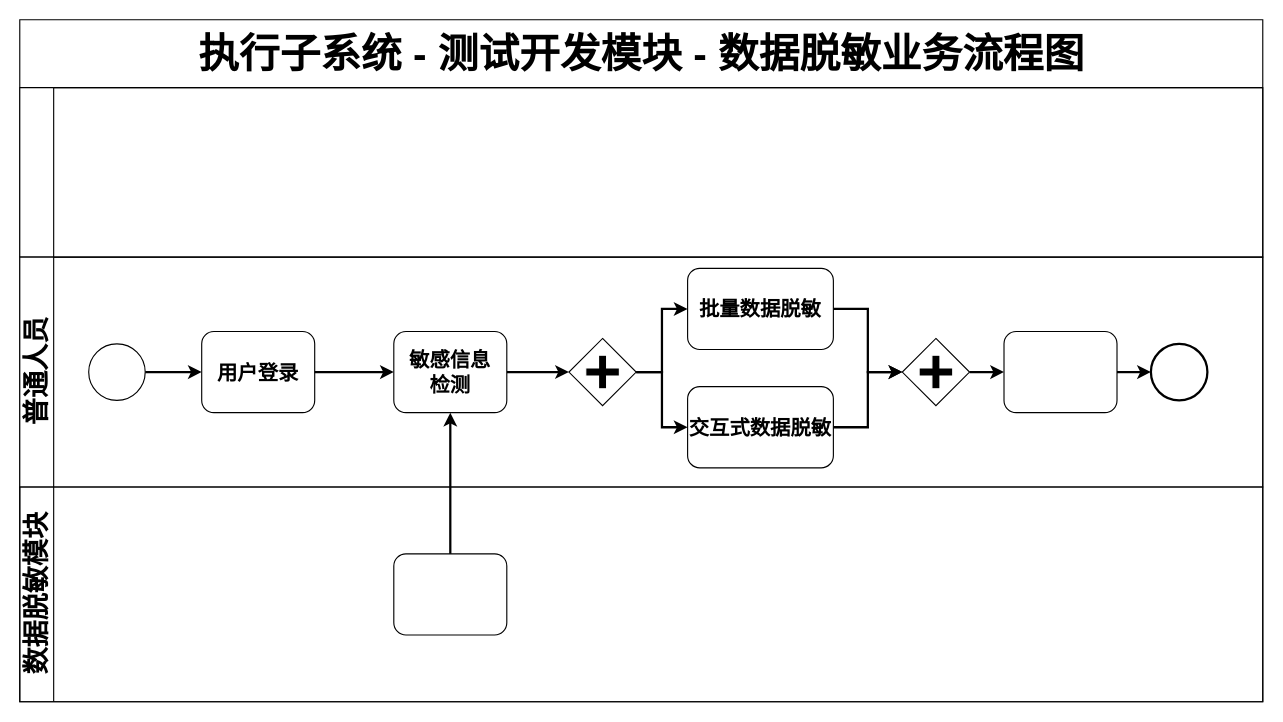
Some shapes in this 1283 by 722 pixel diagram are drawn without their labels. Here are the shapes that lost their labels. From the top down, the centre of each, then its label:
At [641,171]: "系统管理员".
At [1060,371]: "脱敏结果 查看".
At [450,594]: "脱敏工具".
